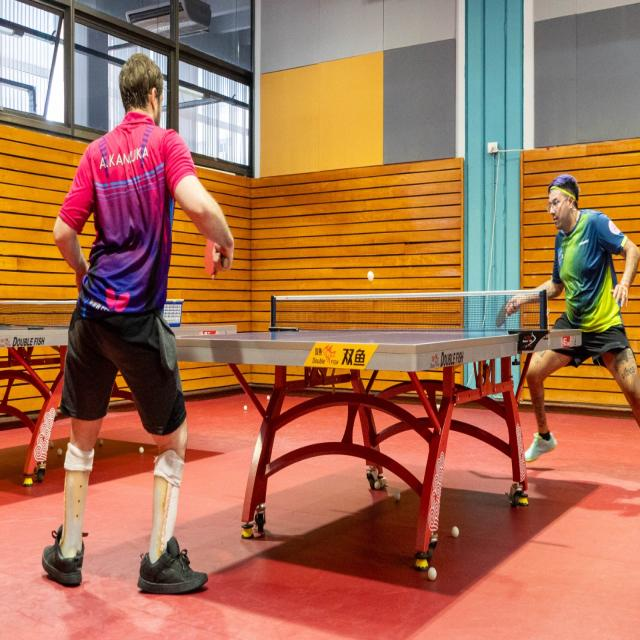TT Net: (268, 287, 551, 338), (0, 297, 129, 332)
TT Racket: (203, 235, 223, 279), (493, 300, 513, 331)
TT Table: (162, 328, 581, 347), (1, 321, 235, 332)
